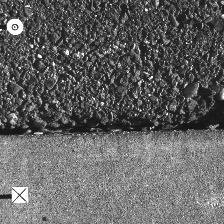circle: (6, 18, 23, 34)
crack: (1, 118, 223, 137)
square: (11, 187, 28, 203)
